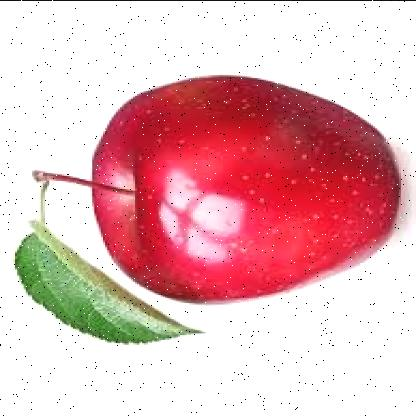apple: (98, 80, 390, 304)
